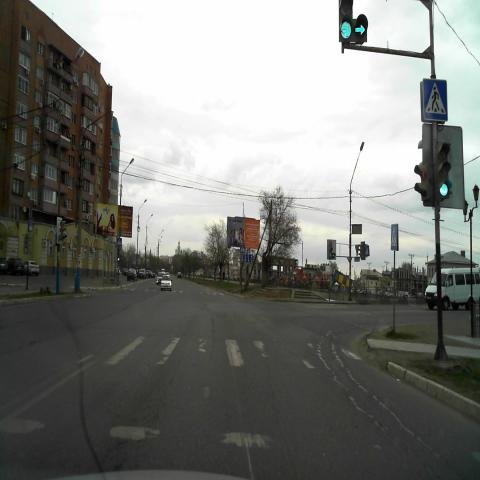5_15_7: (242, 253, 253, 263)
